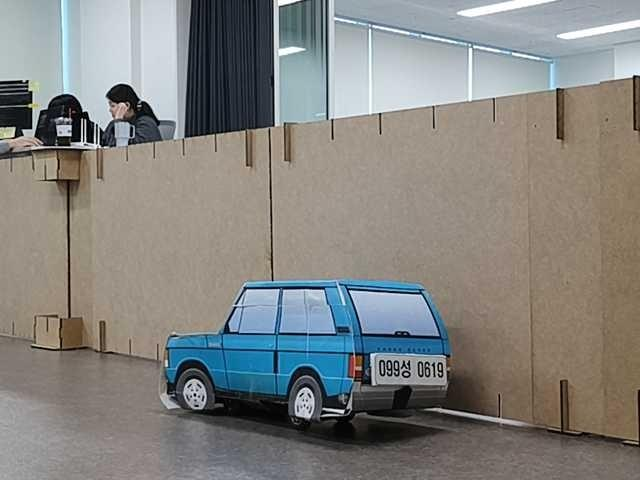car: (159, 280, 451, 433)
id: (369, 353, 448, 389)
